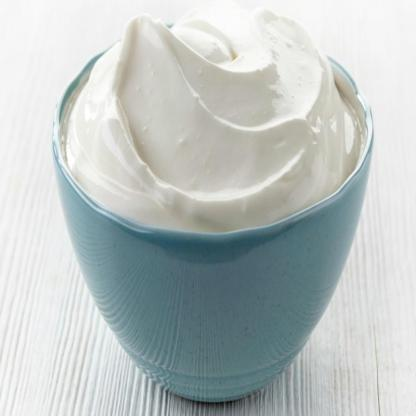yogurt: (57, 10, 373, 237)
